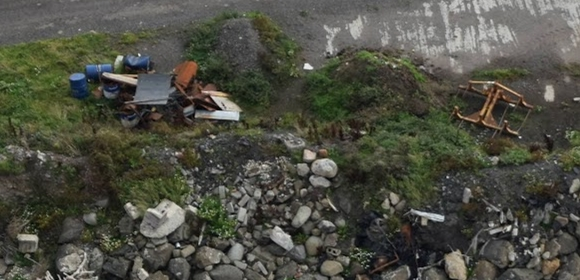cuboid: (447, 71, 536, 141)
straight_bar: (406, 201, 448, 228)
together_barrel: (63, 40, 245, 131)
